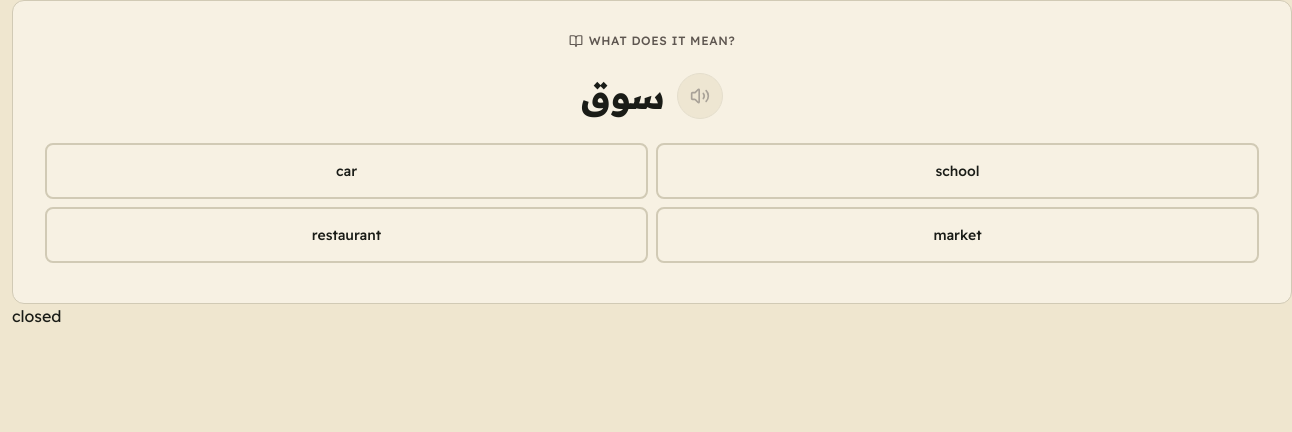
why not this one? › offers the plain question after a right answer
The image size is (1292, 432).
Click the radio button labelled "market": (958, 235) [656,207,1259,263]
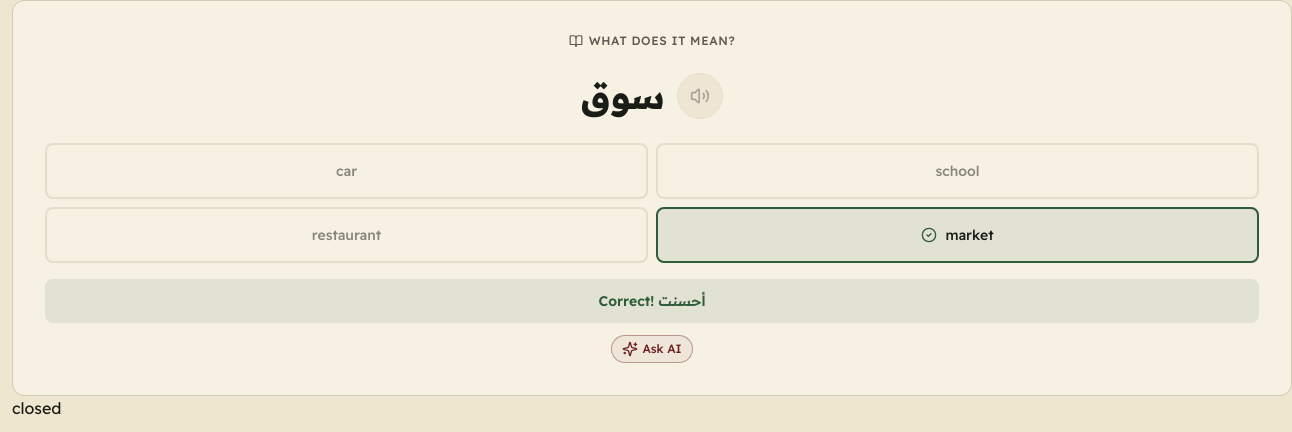
Expected: the button "Ask AI" is shown, [611,335,693,363]
